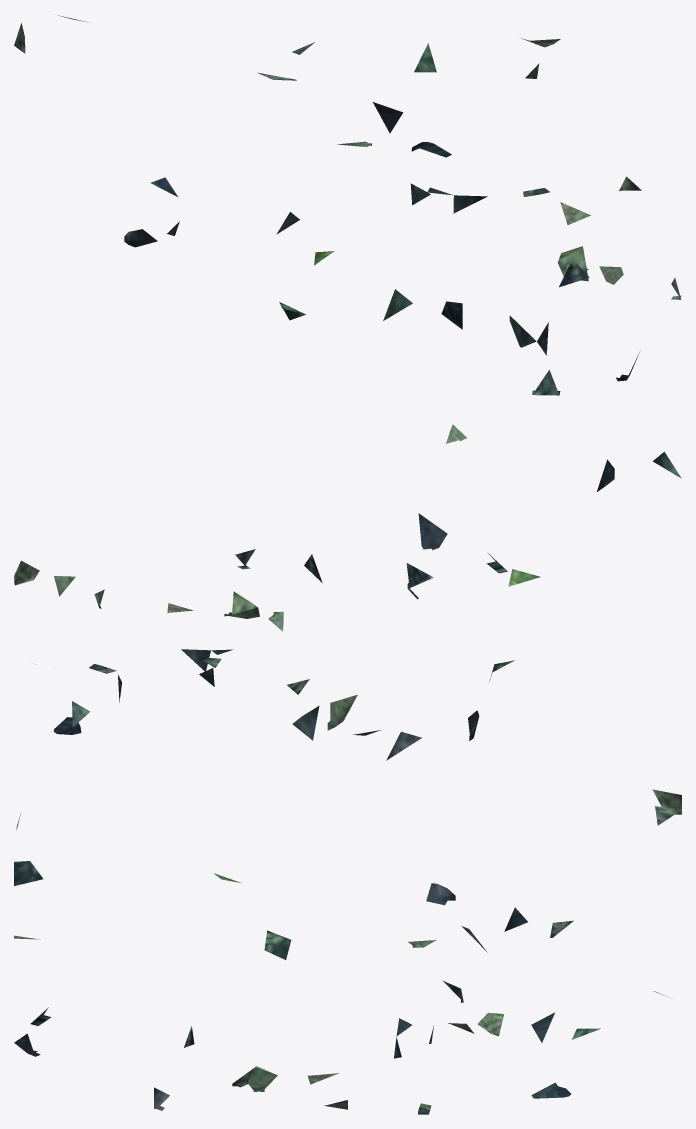
The picture shows the model from 3 angles, top to bottom: view 1: azimuth 30°, elevation 25°; view 2: azimuth 150°, elevation 25°; view 3: azimuth 270°, elevation 25°; orthographic projection. The views are drawn at different scales.
Parts seen in each view (by area): view 1: 30436272704361516614_1; view 2: 30436272704361516614_1; view 3: 30436272704361516614_1.
Boxes of the visible parts, <box> form: 30436272704361516614_1: <box>14,15,681,395</box>; 30436272704361516614_1: <box>14,424,681,760</box>; 30436272704361516614_1: <box>14,789,681,1114</box>.
Size of the model in its own units: 27.31 by 9.55 by 38.26.
1 material, 1 textured.
